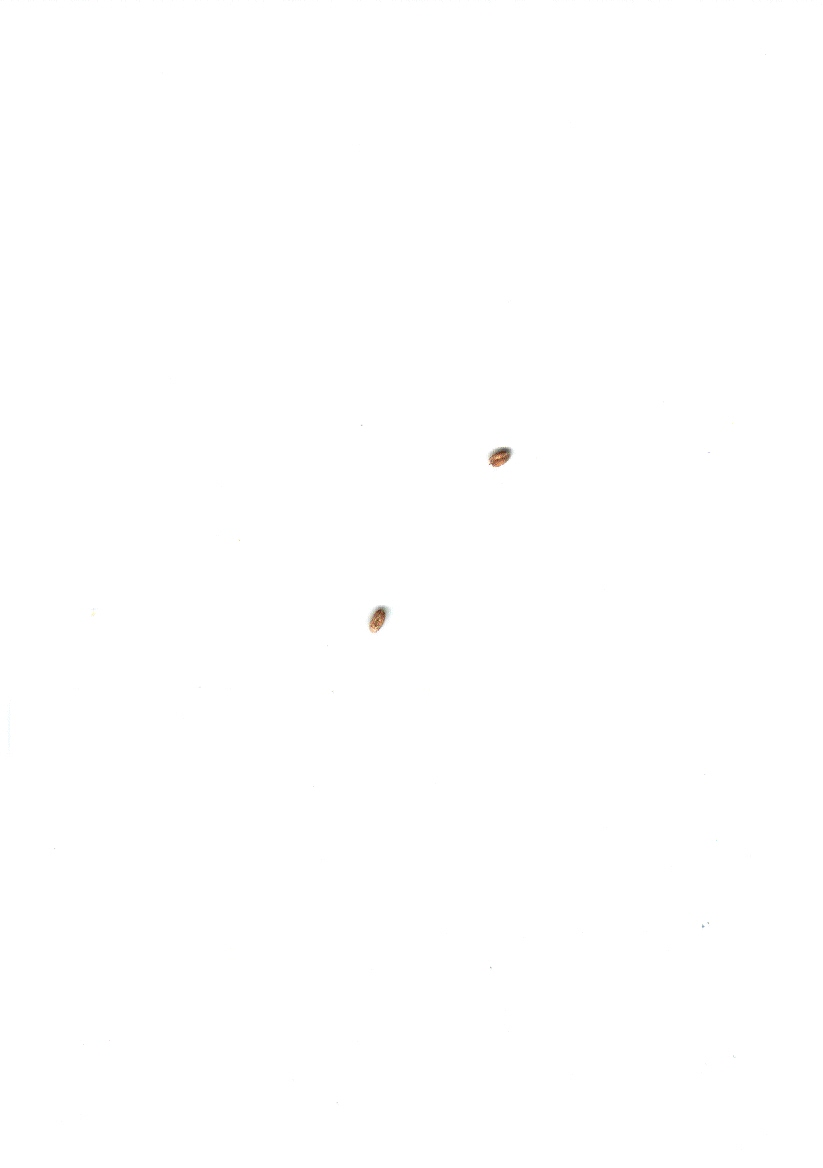grains: (354, 598, 406, 637), (475, 436, 520, 479)
